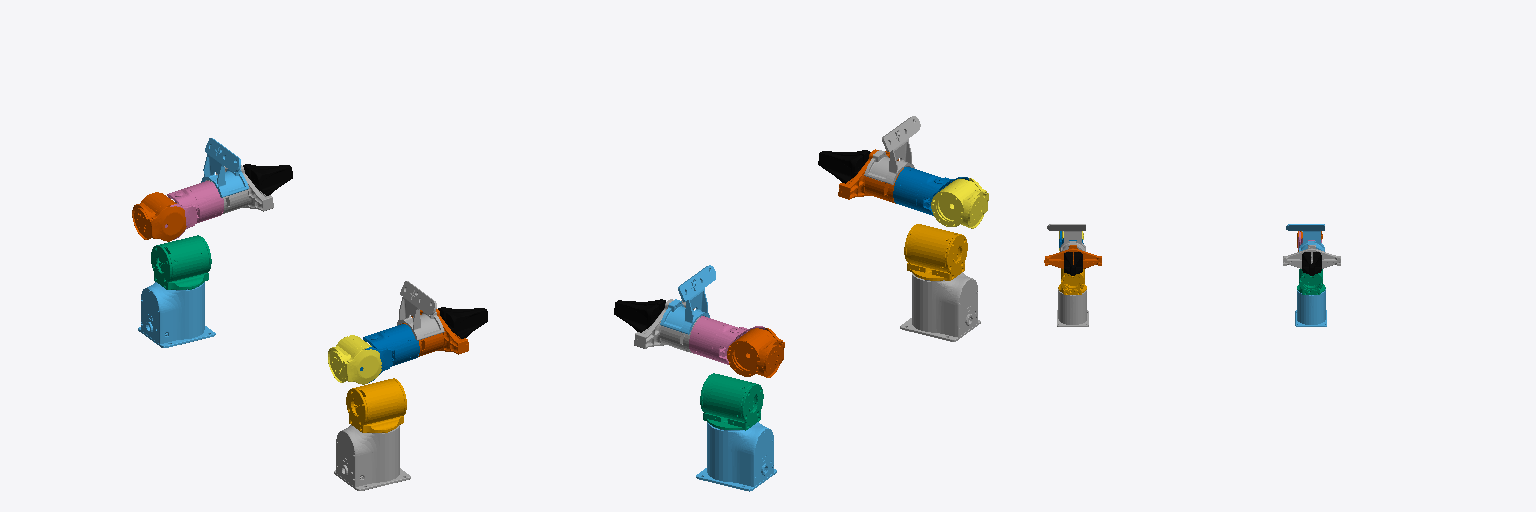
--- Render facts (derived) ---
Views: 3 orthographic renders of the robot side by side, from view 1: azimuth 30°, elevation 25°; view 2: azimuth 150°, elevation 25°; view 3: azimuth 270°, elevation 25°.
Model dual_piper with 29 links and 28 joints (12 revolute, 4 prismatic, 12 fixed), rooted at base_link, posed every joint at zero.
Links seen in each view (by area): view 1: left_base_link, right_base_link, right_link1, left_link1, left_link4, right_link4, right_camera_stand, left_camera_stand, left_link5, right_link5, left_link6, right_link6 (+2 smaller); view 2: left_base_link, right_base_link, right_link1, left_link1, right_link4, left_link4, left_camera_stand, right_camera_stand, right_link5, left_link5, right_link6, left_link6 (+2 smaller); view 3: right_base_link, left_base_link, right_camera_stand, left_camera_stand, left_link6, right_link6, left_link1, right_link1.
Boxes of the visible links, left/top/right/bottom form: left_base_link: left=138, top=282, right=215, bottom=347; right_base_link: left=334, top=425, right=410, bottom=490; right_link1: left=346, top=378, right=406, bottom=432; left_link1: left=151, top=235, right=211, bottom=289; left_link4: left=132, top=192, right=186, bottom=241; right_link4: left=328, top=335, right=381, bottom=384; right_camera_stand: left=397, top=281, right=444, bottom=340; left_camera_stand: left=201, top=138, right=248, bottom=197; left_link5: left=165, top=181, right=223, bottom=239; right_link5: left=360, top=324, right=419, bottom=382; left_link6: left=206, top=165, right=273, bottom=213; right_link6: left=400, top=309, right=468, bottom=356; left_base_link: left=696, top=422, right=776, bottom=491; right_base_link: left=900, top=272, right=980, bottom=341; right_link1: left=904, top=224, right=967, bottom=280; left_link1: left=700, top=373, right=763, bottom=430; right_link4: left=931, top=178, right=988, bottom=228; left_link4: left=727, top=328, right=784, bottom=377; left_camera_stand: left=660, top=265, right=715, bottom=334; right_camera_stand: left=864, top=116, right=920, bottom=184; right_link5: left=893, top=167, right=968, bottom=215; left_link5: left=689, top=316, right=764, bottom=364; right_link6: left=838, top=149, right=903, bottom=203; left_link6: left=634, top=299, right=700, bottom=353; right_base_link: left=1057, top=289, right=1088, bottom=326; left_base_link: left=1295, top=289, right=1326, bottom=326; right_camera_stand: left=1047, top=224, right=1085, bottom=251; left_camera_stand: left=1286, top=224, right=1324, bottom=251; left_link6: left=1283, top=245, right=1340, bottom=268; right_link6: left=1044, top=245, right=1101, bottom=268; left_link1: left=1297, top=269, right=1325, bottom=294; right_link1: left=1058, top=269, right=1086, bottom=294.
Size in the robot's own frame: 0.2774 by 1.18 by 0.466 metres.
16 mesh visuals loaded from 11 distinct referenced files (8 OBJ); not drawn: 6 (reference not matched to a file when rendering).

robot.urdf — dual_piper:
<?xml version='1.0' encoding='utf-8'?>
<robot name="dual_piper" xmlns:xacro="http://www.ros.org/wiki/xacro">
    <link name="base_link">
        <inertial>
            <origin xyz="0 0 0" rpy="0 0 0" />
            <mass value="0.001" />
            <inertia ixx="1e-6" ixy="0" ixz="0" iyy="1e-6" iyz="0" izz="1e-6" />
        </inertial>
    </link>
    <link name="left_base_link">
        <inertial>
            <origin xyz="-0.00979274765955341 1.82905827587138E-06 0.0410100126360189" rpy="0 0 0" />
            <mass value="0.162548567403693" />
            <inertia ixx="0.000226596924525071" ixy="-7.33972270153965E-08" ixz="2.13249977802622E-06" iyy="0.000269444772561524" iyz="8.15169009611054E-09" izz="0.000222318258878636" />
        </inertial>
        <visual>
            <origin xyz="0 0 0" rpy="0 0 0" />
            <geometry>
                <mesh filename="package://aloha_new_description/meshes/dark_dae/base_link.obj" />
            </geometry>
        </visual>
        <collision>
            <origin xyz="0 0 0" rpy="0 0 0" />
            <geometry>
                <mesh filename="package://aloha_new_description/meshes/base_link.STL" />
            </geometry>
        </collision>
    </link>
    <joint name="base_to_left_base" type="fixed">
        <origin xyz="0 0.3 0" rpy="0.0 0.0 0.0" />
        <parent link="base_link" />
        <child link="left_base_link" />
        <axis xyz="0.0 0.0 1.0" />
    </joint>
    <link name="left_link1">
        <inertial>
            <origin xyz="0.00131676031927024 0.000310288842008612 -0.00922874512303437" rpy="0 0 0" />
            <mass value="0.0978679932242825" />
            <inertia ixx="7.76684558296782E-05" ixy="1.09084650459924E-07" ixz="-1.9748053243241E-06" iyy="9.24967780161547E-05" iyz="9.91284646834582E-07" izz="8.24589062407807E-05" />
        </inertial>
        <visual>
            <origin xyz="0 0 0" rpy="0 0 0" />
            <geometry>
                <mesh filename="package://aloha_new_description/meshes/dark_dae/link1.obj" />
            </geometry>
        </visual>
        <collision>
            <origin xyz="0 0 0" rpy="0 0 0" />
            <geometry>
                <mesh filename="package://aloha_new_description/meshes/link1.STL" />
            </geometry>
        </collision>
    </link>
    <joint name="left_joint1" type="revolute">
        <origin xyz="0 0 0.123" rpy="0 0 -1.5708" />
        <parent link="left_base_link" />
        <child link="left_link1" />
        <axis xyz="0 0 1" />
        <limit lower="-2.618" upper="2.618" effort="100" velocity="3" />
    </joint>
    <link name="left_link2">
        <inertial>
            <origin xyz="0.148793602378802 -0.00242026983944119 0.00175154638467948" rpy="0 0 0" />
            <mass value="0.290888938633388" />
            <inertia ixx="0.000148959640166183" ixy="-7.37750384371657E-05" ixz="-9.68688405196236E-07" iyy="0.00172800946632652" iyz="-1.09692225564224E-06" izz="0.0017754628344594" />
        </inertial>
        <visual>
            <origin xyz="0 0 0" rpy="0 0 0" />
            <geometry>
                <mesh filename="package://aloha_new_description/meshes/dark_dae/link2.obj" />
            </geometry>
        </visual>
        <collision>
            <origin xyz="0 0 0" rpy="0 0 0" />
            <geometry>
                <mesh filename="package://aloha_new_description/meshes/link2.STL" />
            </geometry>
        </collision>
    </link>
    <joint name="left_joint2" type="revolute">
        <origin xyz="0 0 0" rpy="1.5708 -0.034907 -1.5708" />
        <parent link="left_link1" />
        <child link="left_link2" />
        <axis xyz="0 0 1" />
        <limit lower="0" upper="3.14" effort="100" velocity="3" />
    </joint>
    <link name="left_link3">
        <inertial>
            <origin xyz="-0.0996835215213704 0.0349477226691318 0.000508025815507312" rpy="0 0 0" />
            <mass value="0.290847697793211" />
            <inertia ixx="0.000107879011637167" ixy="2.92669521203626E-05" ixz="6.825922326238E-07" iyy="0.000214751671792086" iyz="-7.78469047878196E-07" izz="0.000241923439340319" />
        </inertial>
        <visual>
            <origin xyz="0 0 0" rpy="0 0 0" />
            <geometry>
                <mesh filename="package://aloha_new_description/meshes/dark_dae/link3.obj" />
            </geometry>
        </visual>
        <collision>
            <origin xyz="0 0 0" rpy="0 0 0" />
            <geometry>
                <mesh filename="package://aloha_new_description/meshes/link3.STL" />
            </geometry>
        </collision>
    </link>
    <joint name="left_joint3" type="revolute">
        <origin xyz="0.28358 0.028726 0" rpy="0 0 0.06604341" />
        <parent link="left_link2" />
        <child link="left_link3" />
        <axis xyz="0 0 1" />
        <limit lower="-2.697" upper="0" effort="100" velocity="3" />
    </joint>
    <link name="left_link4">
        <inertial>
            <origin xyz="0.000276464622387979 -0.00102803669324875 -0.00472830700561663" rpy="0 0 0" />
            <mass value="0.127087348341362" />
            <inertia ixx="3.82011730423416E-05" ixy="-4.92358350897513E-08" ixz="4.89589432973119E-08" iyy="4.87048555222578E-05" iyz="6.70802942500512E-08" izz="4.10592077565559E-05" />
        </inertial>
        <visual>
            <origin xyz="0 0 0" rpy="0 0 0" />
            <geometry>
                <mesh filename="package://aloha_new_description/meshes/dark_dae/link4.obj" />
            </geometry>
        </visual>
        <collision>
            <origin xyz="0 0 0" rpy="0 0 0" />
            <geometry>
                <mesh filename="package://aloha_new_description/meshes/link4.STL" />
            </geometry>
        </collision>
    </link>
    <joint name="left_joint4" type="revolute">
        <origin xyz="-0.24221 0.068514 0" rpy="-1.5708 0 1.3826" />
        <parent link="left_link3" />
        <child link="left_link4" />
        <axis xyz="0 0 1" />
        <limit lower="-1.832" upper="1.832" effort="100" velocity="3" />
    </joint>
    <link name="left_link5">
        <inertial>
            <origin xyz="8.82262433516967E-05 0.0566829014808256 -0.00196119720482461" rpy="0 0 0" />
            <mass value="0.144711242639457" />
            <inertia ixx="4.39644313662493E-05" ixy="-3.59259686444846E-08" ixz="-1.89747741386183E-08" iyy="5.63173920951307E-05" iyz="-2.1540716689785E-07" izz="4.88713664675268E-05" />
        </inertial>
        <visual>
            <origin xyz="0 0 0" rpy="0 0 -3.14" />
            <geometry>
                <mesh filename="package://aloha_new_description/meshes/dark_dae/link5.obj" />
            </geometry>
        </visual>
        <collision>
            <origin xyz="0 0 0" rpy="0 0 -3.14" />
            <geometry>
                <mesh filename="package://aloha_new_description/meshes/link5.STL" />
            </geometry>
        </collision>
    </link>
    <joint name="left_joint5" type="revolute">
        <origin xyz="0 0 0" rpy="1.5708 0 0" />
        <parent link="left_link4" />
        <child link="left_link5" />
        <axis xyz="0 0 1" />
        <limit lower="-1.22" upper="1.22" effort="100" velocity="3" />
    </joint>
    <link name="left_link6">
        <inertial>
            <origin xyz="0.00103120214523473 0.0121761387587524 0.0315480874960164" rpy="0 0 0" />
            <mass value="0.195187143240719" />
            <inertia ixx="6.43790256535539E-05" ixy="-1.2366166157046E-06" ixz="1.97664606328472E-07" iyy="0.000126146396374301" iyz="2.41157078516408E-06" izz="0.000154087076816444" />
        </inertial>
        <visual>
            <origin xyz="0 0 0" rpy="0 0 0" />
            <geometry>
                <mesh filename="package://aloha_new_description/meshes/dark_dae/link6_.obj" />
            </geometry>
        </visual>
        <collision>
            <origin xyz="0 0 0" rpy="0 0 0" />
            <geometry>
                <mesh filename="package://aloha_new_description/meshes/piper_slave_meshes/link6_v2.obj" />
            </geometry>
        </collision>
    </link>
    <joint name="left_joint6" type="revolute">
        <origin xyz="0 0.091 0.0014165" rpy="-1.5708 -1.5708 0" />
        <parent link="left_link5" />
        <child link="left_link6" />
        <axis xyz="0 0 1" />
        <limit lower="-3.14" upper="3.14" effort="100" velocity="3" />
    </joint>
    <link name="left_tcp">
        <inertial>
            <origin xyz="0 0 0" rpy="0 0 0" />
            <mass value="0.001" />
            <inertia ixx="1e-6" ixy="0" ixz="0" iyy="1e-6" iyz="0" izz="1e-6" />
        </inertial>
    </link>
    <joint name="left_tcp_joint" type="fixed">
        <origin xyz="0 0 0.12" rpy="0 0 0" />
        <parent link="left_link6" />
        <child link="left_tcp" />
    </joint>
    <link name="left_camera_stand">
        <inertial>
            <origin xyz="0.00103120214523473 0.0121761387587524 0.0315480874960164" rpy="0 0 0" />
            <mass value="0.195187143240719" />
            <inertia ixx="6.43790256535539E-05" ixy="-1.2366166157046E-06" ixz="1.97664606328472E-07" iyy="0.000126146396374301" iyz="2.41157078516408E-06" izz="0.000154087076816444" />
        </inertial>
        <visual>
            <origin xyz="-0.0025 0 0" rpy="0 0 0" />
            <geometry>
                <mesh filename="package://aloha_new_description/meshes/dark_dae/d435_camera_stand.obj" />
            </geometry>
        </visual>
        <collision>
            <origin xyz="0 0 0" rpy="0 0 0" />
            <geometry>
                <mesh filename="package://aloha_new_description/meshes/dark_dae/d435_camera_stand.obj" />
            </geometry>
        </collision>
    </link>
    <joint name="left_camera_stand_joint" type="fixed">
        <origin xyz="0.0 0.013 0.03" rpy="0 0 0" />
        <parent link="left_link6" />
        <child link="left_camera_stand" />
    </joint>
    <link name="left_d435_camera_link" />
    <joint name="left_camera_joint" type="fixed">
        <origin rpy="0 0 0" xyz="0 0 0" />
        <parent link="left_d435_camera_link" />
        <child link="left_camera_bottom_screw_frame" />
    </joint>
    <link name="left_camera_bottom_screw_frame" />
    <joint name="left_camera_link_joint" type="fixed">
        <origin rpy="0 0 0" xyz="0.010600000000000002 0.0175 0.0125" />
        <parent link="left_camera_bottom_screw_frame" />
        <child link="left_camera_link" />
    </joint>
    <link name="left_camera_link">
        <visual>
            <origin rpy="0.0 0.0 0.0" xyz="0.0043 0.0 0" />
            <geometry>
                <mesh filename="package://realsense2_description/meshes/d435.obj" />
            </geometry>
        </visual>
        <collision>
            <origin rpy="0 0 0" xyz="0 -0.0175 0" />
            <geometry>
                <box size="0.02505 0.09 0.025" />
            </geometry>
        </collision>
        <inertial>
            <mass value="0.072" />
            <origin xyz="0 0 0" />
            <inertia ixx="0.0003881243" ixy="0.0" ixz="0.0" iyy="0.0000498940" iyz="0.0" izz="0.0003879257" />
        </inertial>
    </link>
    <joint name="left_d435_camera_joint" type="fixed">
        <origin xyz="-0.045 0.042 -0.004" rpy="0.52 0.0 0.0" />
        <parent link="left_camera_stand" />
        <child link="left_d435_camera_link" />
    </joint>
    <link name="left_link7">
        <inertial>
            <origin xyz="-0.000277778383727112 -0.0467673043650824 -0.00921029491873201" rpy="0 0 0" />
            <mass value="0.02648229234527" />
            <inertia ixx="9.99787479924589E-06" ixy="-1.57548495096104E-07" ixz="-2.71342775003487E-08" iyy="6.1795212293655E-06" iyz="-1.58939803580081E-06" izz="1.42102717246564E-05" />
        </inertial>
        <visual>
            <origin xyz="0 0 0" rpy="0 0 0" />
            <geometry>
                <mesh filename="package://aloha_new_description/meshes/dark_dae/link7.obj" />
            </geometry>
            <material name="">
                <color rgba="0.06 0.06 0.06 1" />
            </material>
        </visual>
        <collision>
            <origin xyz="0 0 0" rpy="0 0 0" />
            <geometry>
                <mesh filename="package://aloha_new_description/meshes/piper_slave_meshes/link7.STL" />
            </geometry>
        </collision>
    </link>
    <joint name="left_joint7" type="prismatic">
        <origin xyz="0 0 0.13503" rpy="1.5708 0 1.5708" />
        <parent link="left_link6" />
        <child link="left_link7" />
        <axis xyz="0 0 -1" />
        <limit lower="0" upper="0.04" effort="10" velocity="1" />
    </joint>
    <link name="left_link8">
        <inertial>
            <origin xyz="0.000277816920932317 0.0467673824063769 -0.00921030054508036" rpy="0 0 0" />
            <mass value="0.0264822021416248" />
            <inertia ixx="9.99779119357223E-06" ixy="-1.57542283433504E-07" ixz="2.71367446701359E-08" iyy="6.17952441557932E-06" iyz="1.58939319453383E-06" izz="1.4210192754512E-05" />
        </inertial>
        <visual>
            <origin xyz="0 0 0" rpy="0 0 0" />
            <geometry>
                <mesh filename="package://aloha_new_description/meshes/dark_dae/link8.obj" />
            </geometry>
            <material name="">
                <color rgba="0.06 0.06 0.06 1" />
            </material>
        </visual>
        <collision>
            <origin xyz="0 0 0" rpy="0 0 0" />
            <geometry>
                <mesh filename="package://aloha_new_description/meshes/piper_slave_meshes/link8.STL" />
            </geometry>
        </collision>
    </link>
    <joint name="left_joint8" type="prismatic">
        <origin xyz="0 0 0.13503" rpy="-1.5708 0 1.5708" />
        <parent link="left_link6" />
        <child link="left_link8" />
        <axis xyz="0 0 1" />
        <limit lower="-0.04" upper="0" effort="10" velocity="1" />
    </joint>
    <link name="right_base_link">
        <inertial>
            <origin xyz="-0.00979274765955341 1.82905827587138E-06 0.0410100126360189" rpy="0 0 0" />
            <mass value="0.162548567403693" />
            <inertia ixx="0.000226596924525071" ixy="-7.33972270153965E-08" ixz="2.13249977802622E-06" iyy="0.000269444772561524" iyz="8.15169009611054E-09" izz="0.000222318258878636" />
        </inertial>
        <visual>
            <origin xyz="0 0 0" rpy="0 0 0" />
            <geometry>
                <mesh filename="package://aloha_new_description/meshes/dark_dae/base_link.obj" />
            </geometry>
        </visual>
        <collision>
            <origin xyz="0 0 0" rpy="0 0 0" />
            <geometry>
                <mesh filename="package://aloha_new_description/meshes/base_link.STL" />
            </geometry>
        </collision>
    </link>
    <joint name="base_to_right_base" type="fixed">
        <origin xyz="0 -0.3 0" rpy="0.0 0.0 0.0" />
        <parent link="base_link" />
        <child link="right_base_link" />
        <axis xyz="0.0 0.0 1.0" />
    </joint>
    <link name="right_link1">
        <inertial>
            <origin xyz="0.00131676031927024 0.000310288842008612 -0.00922874512303437" rpy="0 0 0" />
            <mass value="0.0978679932242825" />
            <inertia ixx="7.76684558296782E-05" ixy="1.09084650459924E-07" ixz="-1.9748053243241E-06" iyy="9.24967780161547E-05" iyz="9.91284646834582E-07" izz="8.24589062407807E-05" />
        </inertial>
        <visual>
            <origin xyz="0 0 0" rpy="0 0 0" />
            <geometry>
                <mesh filename="package://aloha_new_description/meshes/dark_dae/link1.obj" />
            </geometry>
        </visual>
        <collision>
            <origin xyz="0 0 0" rpy="0 0 0" />
            <geometry>
                <mesh filename="package://aloha_new_description/meshes/link1.STL" />
            </geometry>
        </collision>
    </link>
    <joint name="right_joint1" type="revolute">
        <origin xyz="0 0 0.123" rpy="0 0 -1.5708" />
        <parent link="right_base_link" />
        <child link="right_link1" />
        <axis xyz="0 0 1" />
        <limit lower="-2.618" upper="2.618" effort="100" velocity="3" />
    </joint>
    <link name="right_link2">
        <inertial>
            <origin xyz="0.148793602378802 -0.00242026983944119 0.00175154638467948" rpy="0 0 0" />
            <mass value="0.290888938633388" />
            <inertia ixx="0.000148959640166183" ixy="-7.37750384371657E-05" ixz="-9.68688405196236E-07" iyy="0.00172800946632652" iyz="-1.09692225564224E-06" izz="0.0017754628344594" />
        </inertial>
        <visual>
            <origin xyz="0 0 0" rpy="0 0 0" />
            <geometry>
                <mesh filename="package://aloha_new_description/meshes/dark_dae/link2.obj" />
            </geometry>
        </visual>
        <collision>
            <origin xyz="0 0 0" rpy="0 0 0" />
            <geometry>
                <mesh filename="package://aloha_new_description/meshes/link2.STL" />
            </geometry>
        </collision>
    </link>
    <joint name="right_joint2" type="revolute">
        <origin xyz="0 0 0" rpy="1.5708 -0.034907 -1.5708" />
        <parent link="right_link1" />
        <child link="right_link2" />
        <axis xyz="0 0 1" />
        <limit lower="0" upper="3.14" effort="100" velocity="3" />
    </joint>
    <link name="right_link3">
        <inertial>
            <origin xyz="-0.0996835215213704 0.0349477226691318 0.000508025815507312" rpy="0 0 0" />
            <mass value="0.290847697793211" />
            <inertia ixx="0.000107879011637167" ixy="2.92669521203626E-05" ixz="6.825922326238E-07" iyy="0.000214751671792086" iyz="-7.78469047878196E-07" izz="0.000241923439340319" />
        </inertial>
        <visual>
            <origin xyz="0 0 0" rpy="0 0 0" />
            <geometry>
                <mesh filename="package://aloha_new_description/meshes/dark_dae/link3.obj" />
            </geometry>
        </visual>
        <collision>
            <origin xyz="0 0 0" rpy="0 0 0" />
            <geometry>
                <mesh filename="package://aloha_new_description/meshes/link3.STL" />
            </geometry>
        </collision>
    </link>
    <joint name="right_joint3" type="revolute">
        <origin xyz="0.28358 0.028726 0" rpy="0 0 0.06604341" />
        <parent link="right_link2" />
        <child link="right_link3" />
        <axis xyz="0 0 1" />
        <limit lower="-2.697" upper="0" effort="100" velocity="3" />
    </joint>
    <link name="right_link4">
        <inertial>
            <origin xyz="0.000276464622387979 -0.00102803669324875 -0.00472830700561663" rpy="0 0 0" />
            <mass value="0.127087348341362" />
            <inertia ixx="3.82011730423416E-05" ixy="-4.92358350897513E-08" ixz="4.89589432973119E-08" iyy="4.87048555222578E-05" iyz="6.70802942500512E-08" izz="4.10592077565559E-05" />
        </inertial>
        <visual>
            <origin xyz="0 0 0" rpy="0 0 0" />
            <geometry>
                <mesh filename="package://aloha_new_description/meshes/dark_dae/link4.obj" />
            </geometry>
        </visual>
        <collision>
            <origin xyz="0 0 0" rpy="0 0 0" />
            <geometry>
                <mesh filename="package://aloha_new_description/meshes/link4.STL" />
            </geometry>
        </collision>
    </link>
    <joint name="right_joint4" type="revolute">
        <origin xyz="-0.24221 0.068514 0" rpy="-1.5708 0 1.3826" />
        <parent link="right_link3" />
        <child link="right_link4" />
        <axis xyz="0 0 1" />
        <limit lower="-1.832" upper="1.832" effort="100" velocity="3" />
    </joint>
    <link name="right_link5">
        <inertial>
            <origin xyz="8.82262433516967E-05 0.0566829014808256 -0.00196119720482461" rpy="0 0 0" />
            <mass value="0.144711242639457" />
            <inertia ixx="4.39644313662493E-05" ixy="-3.59259686444846E-08" ixz="-1.89747741386183E-08" iyy="5.63173920951307E-05" iyz="-2.1540716689785E-07" izz="4.88713664675268E-05" />
        </inertial>
        <visual>
            <origin xyz="0 0 0" rpy="0 0 -3.14" />
            <geometry>
                <mesh filename="package://aloha_new_description/meshes/dark_dae/link5.obj" />
            </geometry>
        </visual>
        <collision>
            <origin xyz="0 0 0" rpy="0 0 -3.14" />
            <geometry>
                <mesh filename="package://aloha_new_description/meshes/link5.STL" />
            </geometry>
        </collision>
    </link>
    <joint name="right_joint5" type="revolute">
        <origin xyz="0 0 0" rpy="1.5708 0 0" />
        <parent link="right_link4" />
        <child link="right_link5" />
        <axis xyz="0 0 1" />
        <limit lower="-1.22" upper="1.22" effort="100" velocity="3" />
    </joint>
    <link name="right_link6">
        <inertial>
            <origin xyz="0.00103120214523473 0.0121761387587524 0.0315480874960164" rpy="0 0 0" />
            <mass value="0.195187143240719" />
            <inertia ixx="6.43790256535539E-05" ixy="-1.2366166157046E-06" ixz="1.97664606328472E-07" iyy="0.000126146396374301" iyz="2.41157078516408E-06" izz="0.000154087076816444" />
        </inertial>
        <visual>
            <origin xyz="0 0 0" rpy="0 0 0" />
            <geometry>
                <mesh filename="package://aloha_new_description/meshes/dark_dae/link6_.obj" />
            </geometry>
        </visual>
        <collision>
            <origin xyz="0 0 0" rpy="0 0 0" />
            <geometry>
                <mesh filename="package://aloha_new_description/meshes/piper_slave_meshes/link6_v2.obj" />
            </geometry>
        </collision>
    </link>
    <joint name="right_joint6" type="revolute">
        <origin xyz="0 0.091 0.0014165" rpy="-1.5708 -1.5708 0" />
        <parent link="right_link5" />
        <child link="right_link6" />
        <axis xyz="0 0 1" />
        <limit lower="-3.14" upper="3.14" effort="100" velocity="3" />
    </joint>
    <link name="right_tcp">
        <inertial>
            <origin xyz="0 0 0" rpy="0 0 0" />
            <mass value="0.001" />
            <inertia ixx="1e-6" ixy="0" ixz="0" iyy="1e-6" iyz="0" izz="1e-6" />
        </inertial>
    </link>
    <joint name="right_tcp_joint" type="fixed">
        <origin xyz="0 0 0.12" rpy="0 0 0" />
        <parent link="right_link6" />
        <child link="right_tcp" />
    </joint>
    <link name="right_camera_stand">
        <inertial>
            <origin xyz="0.00103120214523473 0.0121761387587524 0.0315480874960164" rpy="0 0 0" />
            <mass value="0.195187143240719" />
            <inertia ixx="6.43790256535539E-05" ixy="-1.2366166157046E-06" ixz="1.97664606328472E-07" iyy="0.000126146396374301" iyz="2.41157078516408E-06" izz="0.000154087076816444" />
        </inertial>
        <visual>
            <origin xyz="-0.0025 0 0" rpy="0 0 0" />
            <geometry>
                <mesh filename="package://aloha_new_description/meshes/dark_dae/d435_camera_stand.obj" />
            </geometry>
        </visual>
        <collision>
            <origin xyz="0 0 0" rpy="0 0 0" />
            <geometry>
                <mesh filename="package://aloha_new_description/meshes/dark_dae/d435_camera_stand.obj" />
            </geometry>
        </collision>
    </link>
    <joint name="right_camera_stand_joint" type="fixed">
        <origin xyz="0.0 0.013 0.03" rpy="0 0 0" />
        <parent link="right_link6" />
        <child link="right_camera_stand" />
    </joint>
    <link name="right_d435_camera_link" />
    <joint name="right_camera_joint" type="fixed">
        <origin rpy="0 0 0" xyz="0 0 0" />
        <parent link="right_d435_camera_link" />
        <child link="right_camera_bottom_screw_frame" />
    </joint>
    <link name="right_camera_bottom_screw_frame" />
    <joint name="right_camera_link_joint" type="fixed">
        <origin rpy="0 0 0" xyz="0.010600000000000002 0.0175 0.0125" />
        <parent link="right_camera_bottom_screw_frame" />
        <child link="right_camera_link" />
    </joint>
    <link name="right_camera_link">
        <visual>
            <origin rpy="0.0 0.0 0.0" xyz="0.0043 0.0 0" />
            <geometry>
                <mesh filename="package://realsense2_description/meshes/d435.obj" />
            </geometry>
        </visual>
        <collision>
            <origin rpy="0 0 0" xyz="0 -0.0175 0" />
            <geometry>
                <box size="0.02505 0.09 0.025" />
            </geometry>
        </collision>
        <inertial>
            <mass value="0.072" />
            <origin xyz="0 0 0" />
            <inertia ixx="0.0003881243" ixy="0.0" ixz="0.0" iyy="0.0000498940" iyz="0.0" izz="0.0003879257" />
        </inertial>
    </link>
    <joint name="right_d435_camera_joint" type="fixed">
        <origin xyz="-0.045 0.042 -0.004" rpy="0.52 0.0 0.0" />
        <parent link="right_camera_stand" />
        <child link="right_d435_camera_link" />
    </joint>
    <link name="right_link7">
        <inertial>
            <origin xyz="-0.000277778383727112 -0.0467673043650824 -0.00921029491873201" rpy="0 0 0" />
            <mass value="0.02648229234527" />
            <inertia ixx="9.99787479924589E-06" ixy="-1.57548495096104E-07" ixz="-2.71342775003487E-08" iyy="6.1795212293655E-06" iyz="-1.58939803580081E-06" izz="1.42102717246564E-05" />
        </inertial>
        <visual>
            <origin xyz="0 0 0" rpy="0 0 0" />
            <geometry>
                <mesh filename="package://aloha_new_description/meshes/dark_dae/link7.obj" />
            </geometry>
            <material name="">
                <color rgba="0.06 0.06 0.06 1" />
            </material>
        </visual>
        <collision>
            <origin xyz="0 0 0" rpy="0 0 0" />
            <geometry>
                <mesh filename="package://aloha_new_description/meshes/piper_slave_meshes/link7.STL" />
            </geometry>
        </collision>
    </link>
    <joint name="right_joint7" type="prismatic">
        <origin xyz="0 0 0.13503" rpy="1.5708 0 1.5708" />
        <parent link="right_link6" />
        <child link="right_link7" />
        <axis xyz="0 0 -1" />
        <limit lower="0" upper="0.04" effort="10" velocity="1" />
    </joint>
    <link name="right_link8">
        <inertial>
            <origin xyz="0.000277816920932317 0.0467673824063769 -0.00921030054508036" rpy="0 0 0" />
            <mass value="0.0264822021416248" />
            <inertia ixx="9.99779119357223E-06" ixy="-1.57542283433504E-07" ixz="2.71367446701359E-08" iyy="6.17952441557932E-06" iyz="1.58939319453383E-06" izz="1.4210192754512E-05" />
        </inertial>
        <visual>
            <origin xyz="0 0 0" rpy="0 0 0" />
            <geometry>
                <mesh filename="package://aloha_new_description/meshes/dark_dae/link8.obj" />
            </geometry>
            <material name="">
                <color rgba="0.06 0.06 0.06 1" />
            </material>
        </visual>
        <collision>
            <origin xyz="0 0 0" rpy="0 0 0" />
            <geometry>
                <mesh filename="package://aloha_new_description/meshes/piper_slave_meshes/link8.STL" />
            </geometry>
        </collision>
    </link>
    <joint name="right_joint8" type="prismatic">
        <origin xyz="0 0 0.13503" rpy="-1.5708 0 1.5708" />
        <parent link="right_link6" />
        <child link="right_link8" />
        <axis xyz="0 0 1" />
        <limit lower="-0.04" upper="0" effort="10" velocity="1" />
    </joint>
</robot>
